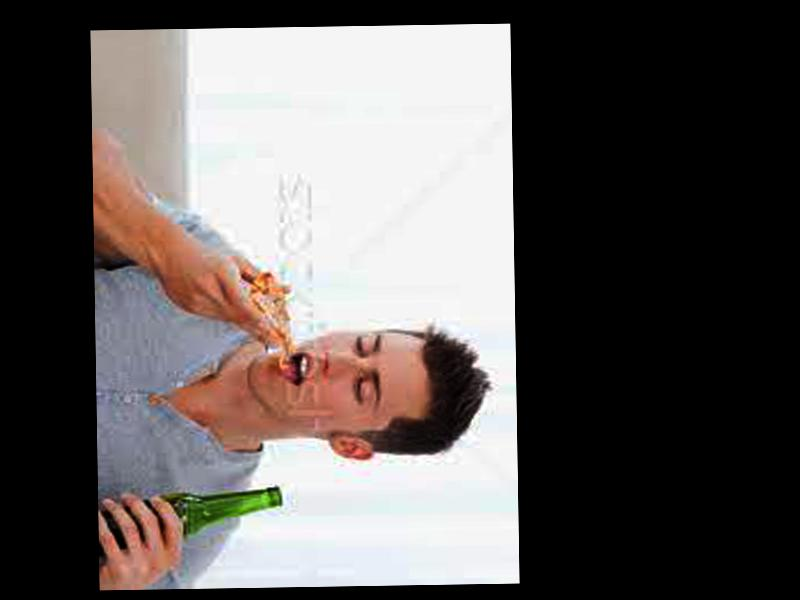Beer: (97, 485, 282, 558)
